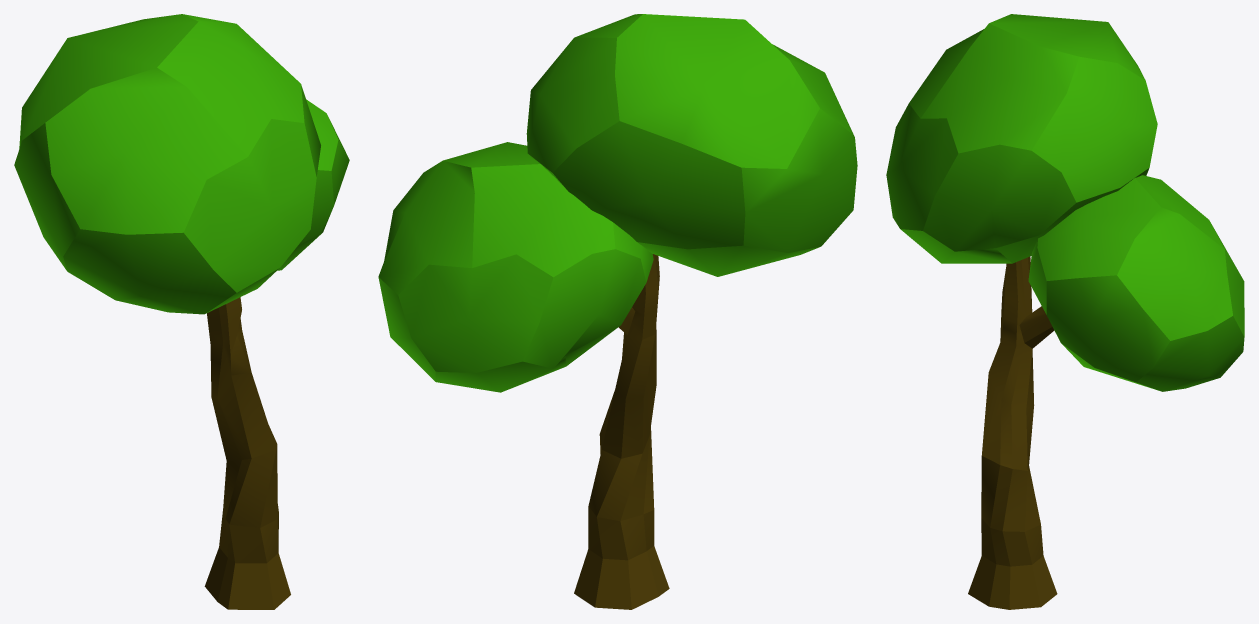
The model's file is GreenTree3.fbx.
The picture shows the model from 3 angles, left to right: view 1: azimuth 30°, elevation 25°; view 2: azimuth 150°, elevation 25°; view 3: azimuth 270°, elevation 25°; orthographic projection. The views are drawn at different scales.
Parts seen in each view (by area): view 1: pCube15; view 2: pCube15; view 3: pCube15.
Boxes of the visible parts, bbox=[...] form: pCube15: bbox=[14, 14, 349, 609]; pCube15: bbox=[378, 14, 857, 609]; pCube15: bbox=[886, 14, 1244, 609].
Size of the model in its own units: 2.48 by 3.73 by 2.29.
